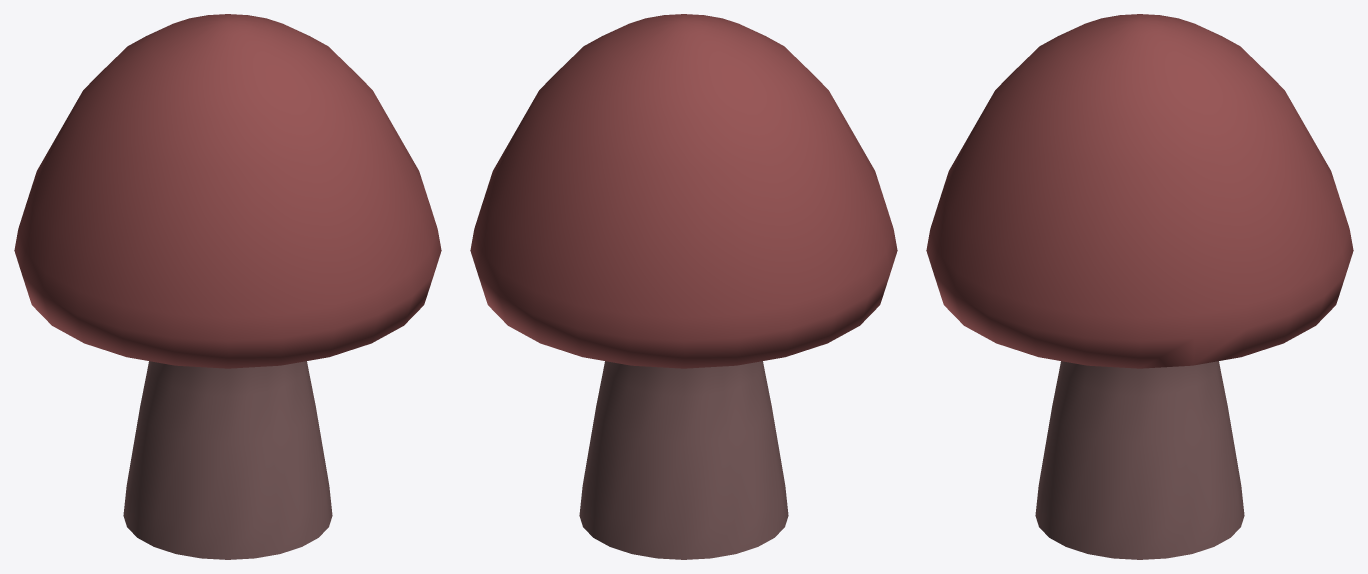
Rendered from HongoPeque2_Mod.fbx.
3 views of the same model, side by side, from view 1: azimuth 30°, elevation 25°; view 2: azimuth 150°, elevation 25°; view 3: azimuth 270°, elevation 25° (orthographic).
Parts seen in each view (by area): view 1: HongoPeque2_Mod; view 2: HongoPeque2_Mod; view 3: HongoPeque2_Mod.
Part boxes in pixels (box(x1,y1,x2,y2)): HongoPeque2_Mod: box(14, 14, 441, 559); HongoPeque2_Mod: box(470, 14, 897, 559); HongoPeque2_Mod: box(926, 14, 1353, 559).
Bounding box in the file's own units: 233 × 296 × 233.
